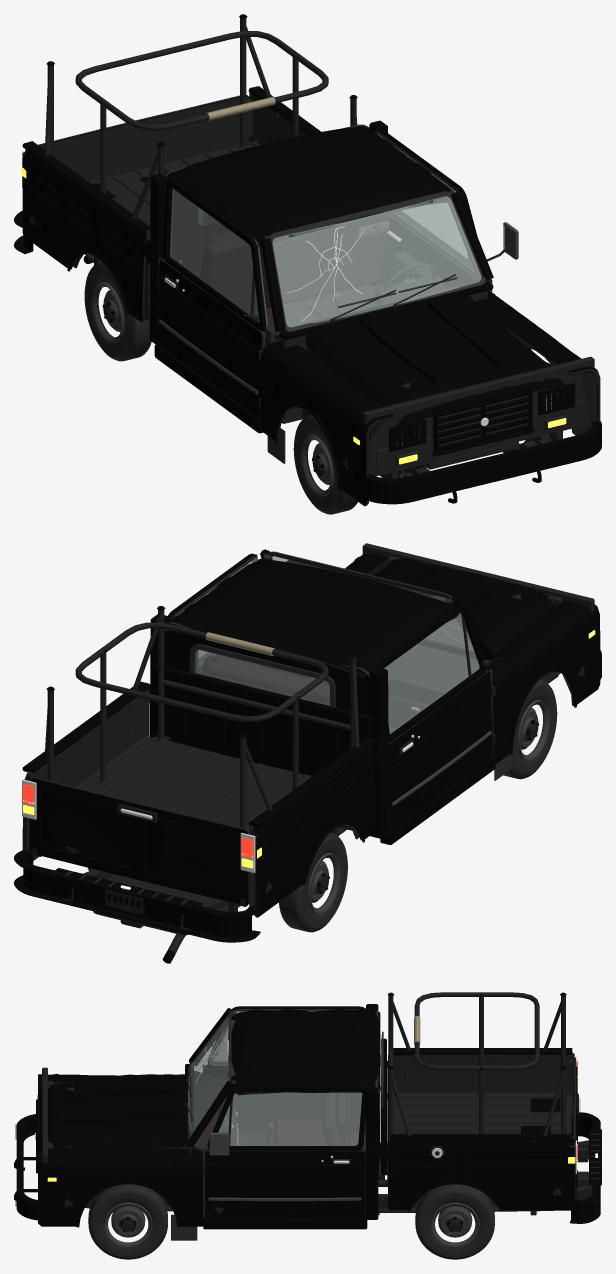
File: dev_noao.glb
3 views of the same model, one above another, from view 1: azimuth 30°, elevation 25°; view 2: azimuth 150°, elevation 25°; view 3: azimuth 270°, elevation 25° (orthographic). The views are drawn at different scales.
Parts seen in each view (by area): view 1: body, panel_door_R, panel_hood, panel_fender_R, panel_tailgate, panel_bumper_F, panel_door_L, wheel_RR, panel_fender_L, wheel_FR; view 2: body, panel_door_R, panel_tailgate, panel_fender_R, panel_bumper_R, panel_hood, wheel_RR, wheel_FR, panel_door_L, panel_fender_L; view 3: body, panel_door_L, panel_fender_L, panel_hood, wheel_RL, wheel_FL, panel_bumper_R, panel_door_R, panel_bumper_F, panel_fender_R, panel_tailgate.
Part boxes in pixels (left/top/right/bottom): body: left=21, top=14, right=594, bottom=503; panel_door_R: left=157, top=179, right=267, bottom=418; panel_hood: left=305, top=294, right=567, bottom=432; panel_fender_R: left=260, top=340, right=393, bottom=506; panel_tailgate: left=38, top=95, right=262, bottom=181; panel_bumper_F: left=360, top=421, right=601, bottom=504; panel_door_L: left=376, top=128, right=518, bottom=294; wheel_RR: left=84, top=261, right=151, bottom=361; panel_fender_L: left=475, top=291, right=600, bottom=435; wheel_FR: left=293, top=414, right=357, bottom=514; body: left=21, top=543, right=594, bottom=963; panel_door_R: left=376, top=604, right=500, bottom=830; panel_tailgate: left=30, top=777, right=249, bottom=906; panel_fender_R: left=487, top=600, right=600, bottom=780; panel_bumper_R: left=14, top=850, right=260, bottom=942; panel_hood: left=374, top=558, right=555, bottom=650; wheel_RR: left=278, top=832, right=347, bottom=932; wheel_FR: left=503, top=679, right=557, bottom=779; panel_door_L: left=168, top=553, right=258, bottom=669; panel_fender_L: left=345, top=553, right=388, bottom=575; body: left=14, top=992, right=595, bottom=1229; panel_door_L: left=203, top=1086, right=365, bottom=1218; panel_fender_L: left=38, top=1149, right=203, bottom=1240; panel_hood: left=37, top=1077, right=188, bottom=1160; wheel_RL: left=415, top=1184, right=494, bottom=1259; wheel_FL: left=88, top=1184, right=167, bottom=1259; panel_bumper_R: left=569, top=1112, right=601, bottom=1223; panel_door_R: left=205, top=1006, right=365, bottom=1132; panel_bumper_F: left=15, top=1114, right=46, bottom=1220; panel_fender_R: left=38, top=1074, right=184, bottom=1093; panel_tailgate: left=537, top=1057, right=580, bottom=1198.
Size of the model in its own units: 2.08 by 1.78 by 4.95.
18 materials, 8 textured.
